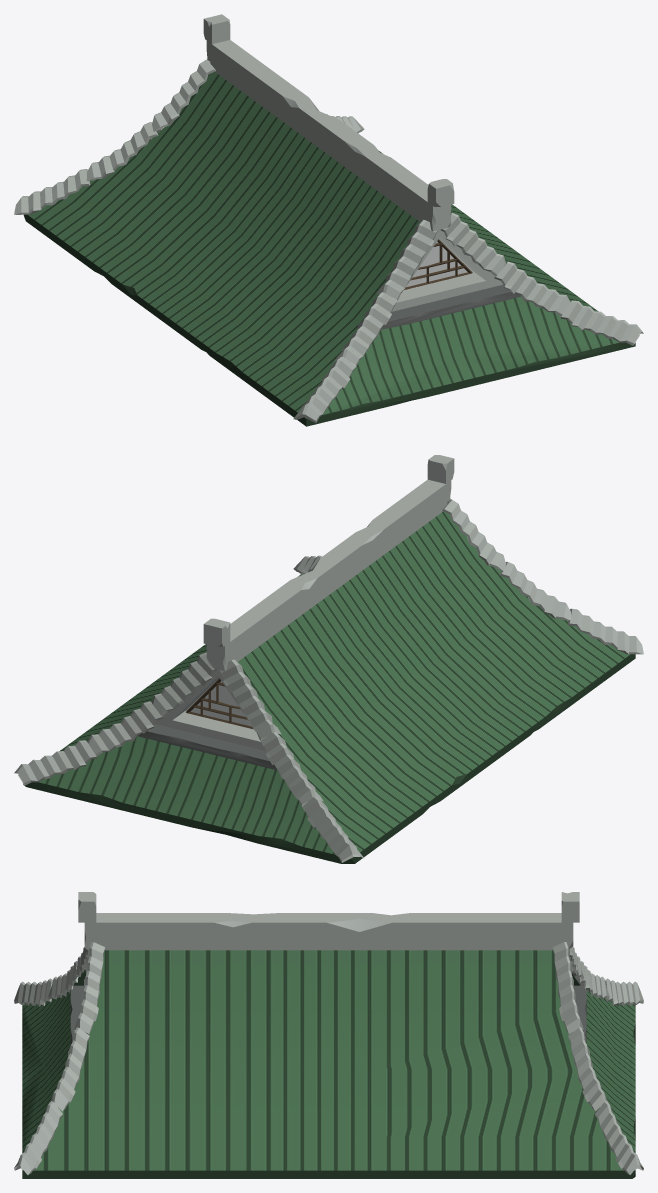
Rendered from SM_Env_Roof_04.fbx.
3 views of the same model, one above another, from view 1: azimuth 30°, elevation 25°; view 2: azimuth 150°, elevation 25°; view 3: azimuth 270°, elevation 25° (orthographic). The views are drawn at different scales.
Parts seen in each view (by area): view 1: SM_Env_Roof_04; view 2: SM_Env_Roof_04; view 3: SM_Env_Roof_04.
Boxes of the visible parts, x1,y1,x2,y2 form: SM_Env_Roof_04: (14, 14, 643, 426); SM_Env_Roof_04: (14, 455, 643, 863); SM_Env_Roof_04: (14, 892, 643, 1178).
Bounding box in the file's own units: 133 × 65.4 × 191.
1 material, 1 textured.
